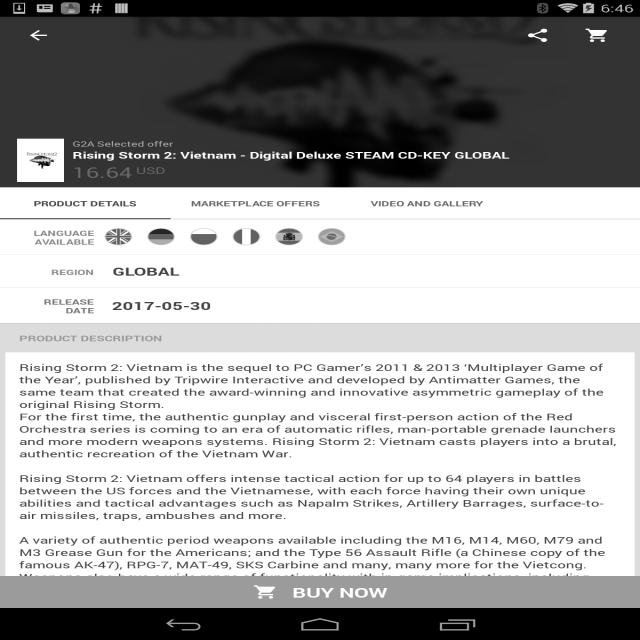ImageButton: (9, 17, 68, 54)
ImageView: (0, 17, 640, 187), (11, 139, 64, 182), (147, 228, 175, 245), (275, 228, 303, 245), (105, 228, 132, 245), (190, 228, 217, 245), (233, 228, 260, 245), (318, 228, 345, 245), (585, 28, 610, 44)
TextView: (5, 352, 635, 640), (5, 324, 635, 352), (72, 162, 630, 182), (72, 148, 630, 160), (72, 138, 630, 148), (241, 576, 399, 608), (512, 19, 563, 52), (112, 298, 211, 313), (14, 228, 94, 246), (14, 297, 94, 314), (191, 198, 320, 208), (370, 198, 483, 208), (112, 263, 179, 279), (34, 198, 136, 208), (14, 267, 94, 275)
